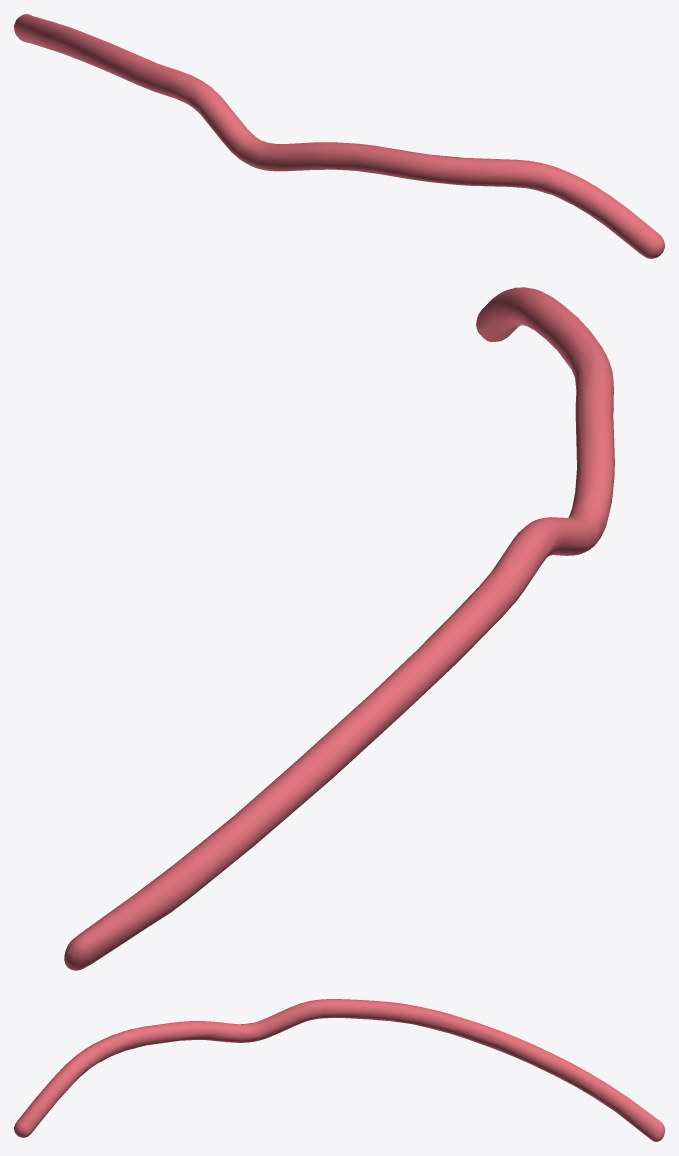
Rendered from fma44881_fj2061.glb.
3 views of the same model, one above another, from view 1: azimuth 30°, elevation 25°; view 2: azimuth 150°, elevation 25°; view 3: azimuth 270°, elevation 25° (orthographic). The views are drawn at different scales.
Parts seen in each view (by area): view 1: FMA44881_FJ2061; view 2: FMA44881_FJ2061; view 3: FMA44881_FJ2061.
Part boxes in pixels (bbox=[...]): FMA44881_FJ2061: bbox=[14, 14, 664, 258]; FMA44881_FJ2061: bbox=[64, 287, 614, 970]; FMA44881_FJ2061: bbox=[14, 999, 664, 1141].
Bounding box in the file's own units: 0.0261 × 0.0149 × 0.0767.
